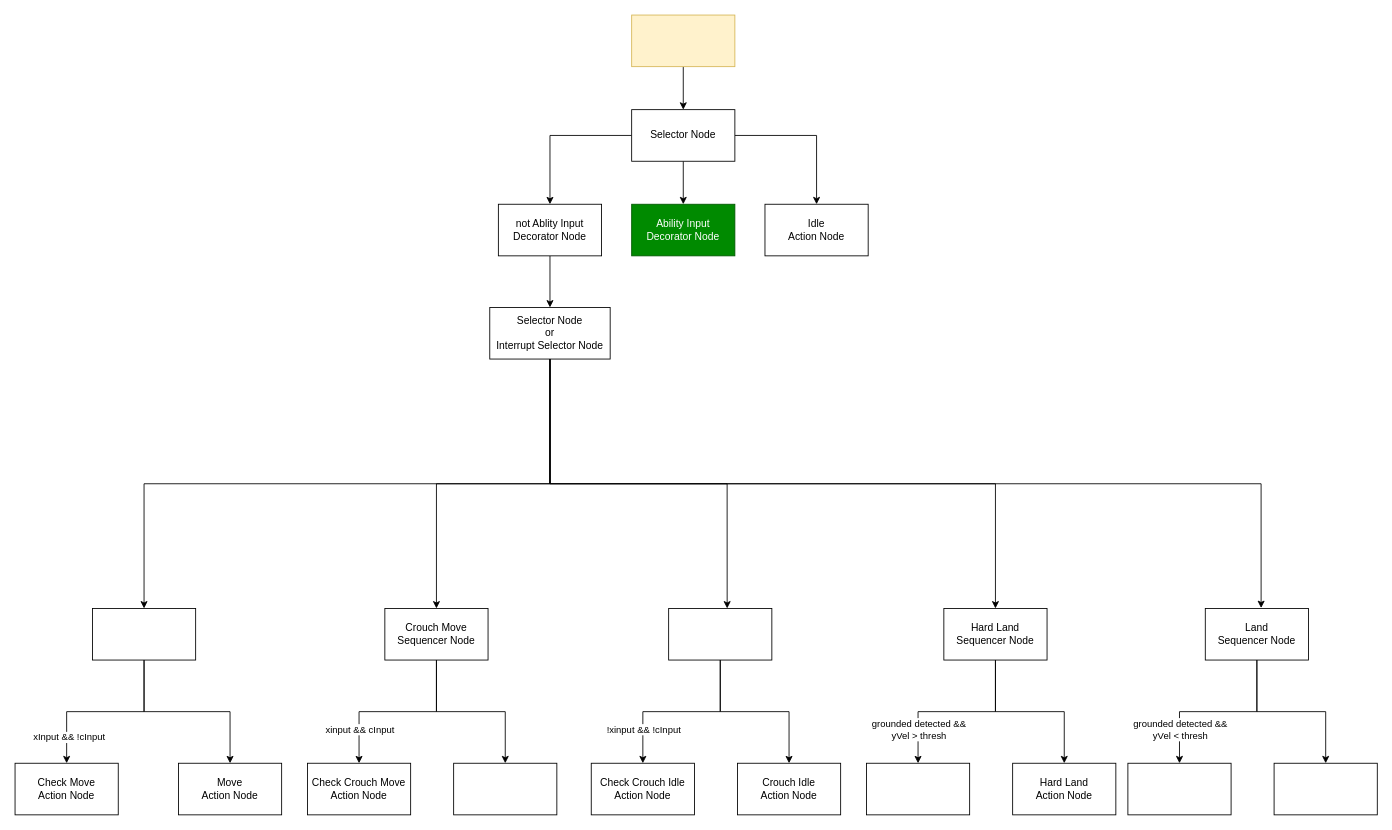
Image size: 1392x830. Some labels were removed from this diagram. Each missing label, with the centre of its shape:
Check Hard Land Action Node: the point at 918,788
Check Land Action Node: the point at 1179,788
Crouch Idle Sequencer Node: the point at 720,634
Crouch Move Action Node: the point at 505,788
Grounded Decorator Node: the point at 683,40
Land Action Node: the point at 1325,788
Move Sequencer Node: the point at 144,634
